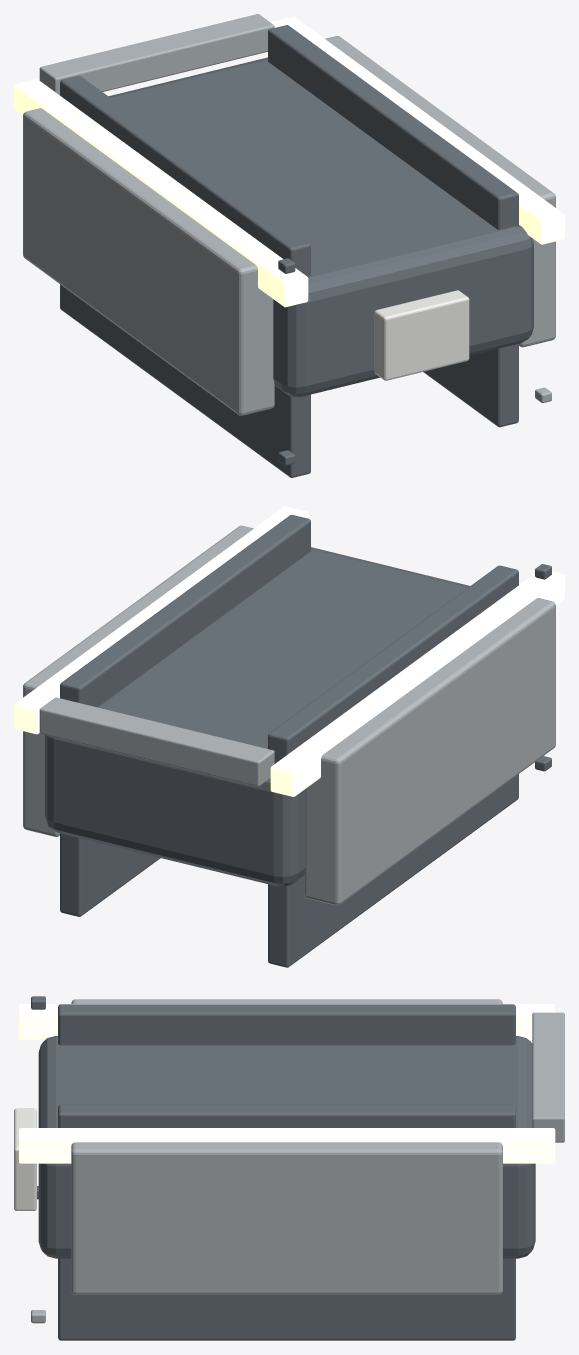
File: connector_aqualume-airlock-conduit-straight-standard-105.glb
3 views of the same model, one above another, from view 1: azimuth 30°, elevation 25°; view 2: azimuth 150°, elevation 25°; view 3: azimuth 270°, elevation 25° (orthographic).
Parts seen in each view (by area): view 1: component__primary_structural_span__primary_span, component__start_connection_socket__start_socket, component__load_bearing_frame__frame_post.001, component__load_bearing_frame__frame_post, component__seal_or_transition_trim__transition_trim.001, component__lod_preserved_silhouette__lod_silhouette, component__service_access__service_access, component__end_connection_socket__end_socket, component__seal_or_transition_trim__transition_trim; view 2: component__primary_structural_span__primary_span, component__start_connection_socket__start_socket, component__load_bearing_frame__frame_post.001, component__load_bearing_frame__frame_post, component__lod_preserved_silhouette__lod_silhouette, component__seal_or_transition_trim__transition_trim.001, component__end_connection_socket__end_socket, component__seal_or_transition_trim__transition_trim; view 3: component__end_connection_socket__end_socket, component__primary_structural_span__primary_span, component__load_bearing_frame__frame_post, component__load_bearing_frame__frame_post.001, component__seal_or_transition_trim__transition_trim, component__lod_preserved_silhouette__lod_silhouette, component__seal_or_transition_trim__transition_trim.001, component__start_connection_socket__start_socket, component__service_access__service_access.
Part boxes in pixels (x1=…): component__primary_structural_span__primary_span: x1=109, y1=57, x2=533, y2=396; component__start_connection_socket__start_socket: x1=23, y1=108, x2=274, y2=415; component__load_bearing_frame__frame_post.001: x1=60, y1=75, x2=310, y2=477; component__load_bearing_frame__frame_post: x1=268, y1=25, x2=518, y2=427; component__seal_or_transition_trim__transition_trim.001: x1=14, y1=79, x2=308, y2=307; component__lod_preserved_silhouette__lod_silhouette: x1=39, y1=14, x2=274, y2=95; component__service_access__service_access: x1=374, y1=290, x2=469, y2=380; component__end_connection_socket__end_socket: x1=325, y1=36, x2=555, y2=347; component__seal_or_transition_trim__transition_trim: x1=271, y1=16, x2=564, y2=244; component__primary_structural_span__primary_span: x1=45, y1=547, x2=469, y2=886; component__start_connection_socket__start_socket: x1=304, y1=598, x2=555, y2=905; component__load_bearing_frame__frame_post.001: x1=268, y1=565, x2=518, y2=967; component__load_bearing_frame__frame_post: x1=60, y1=514, x2=310, y2=916; component__lod_preserved_silhouette__lod_silhouette: x1=39, y1=697, x2=274, y2=786; component__seal_or_transition_trim__transition_trim.001: x1=270, y1=571, x2=564, y2=796; component__end_connection_socket__end_socket: x1=23, y1=525, x2=253, y2=836; component__seal_or_transition_trim__transition_trim: x1=14, y1=506, x2=308, y2=734; component__end_connection_socket__end_socket: x1=71, y1=1142, x2=502, y2=1294; component__primary_structural_span__primary_span: x1=38, y1=1036, x2=535, y2=1258; component__load_bearing_frame__frame_post: x1=58, y1=1104, x2=515, y2=1340; component__load_bearing_frame__frame_post.001: x1=58, y1=1004, x2=515, y2=1045; component__seal_or_transition_trim__transition_trim: x1=19, y1=1128, x2=555, y2=1163; component__lod_preserved_silhouette__lod_silhouette: x1=532, y1=1012, x2=564, y2=1142; component__seal_or_transition_trim__transition_trim.001: x1=19, y1=1004, x2=555, y2=1039; component__start_connection_socket__start_socket: x1=71, y1=999, x2=502, y2=1003; component__service_access__service_access: x1=14, y1=1108, x2=36, y2=1210.
Size of what is drawn, in the model's own units: 3.33 by 2.3 by 5.06.
